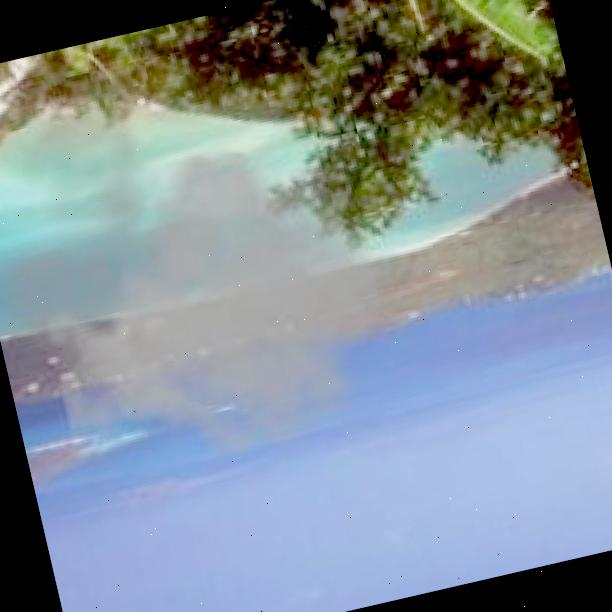smoke: (0, 2, 444, 512)
